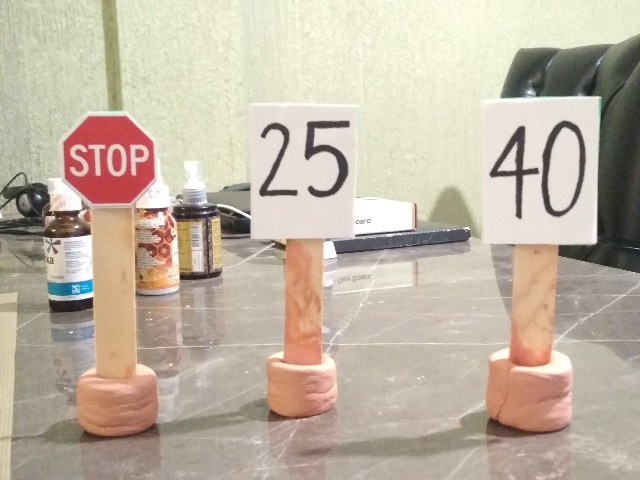Limit 25: (246, 99, 359, 244)
Limit 40: (475, 94, 602, 247)
Stop: (59, 108, 161, 210)
